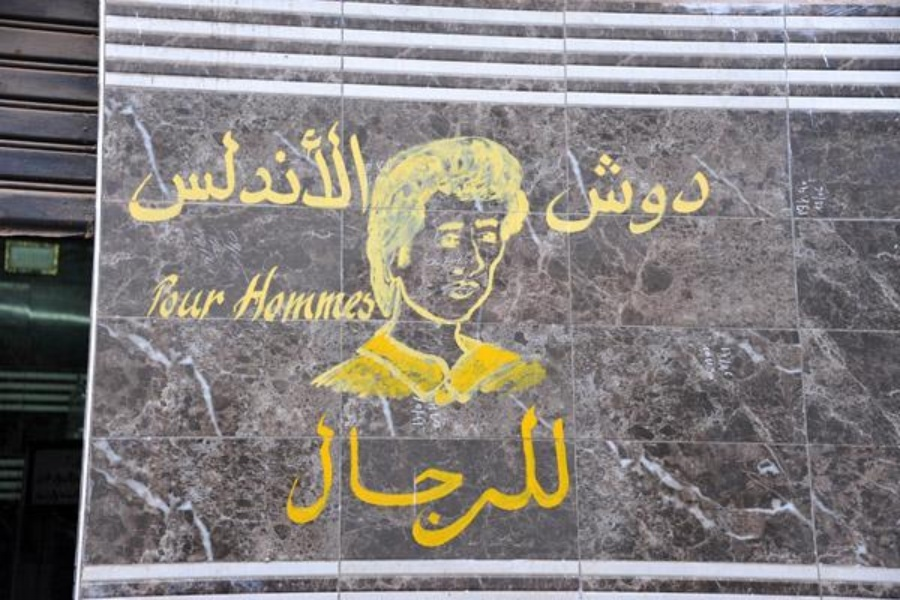text: (289, 406, 304, 562), (305, 406, 320, 562), (321, 406, 336, 562), (337, 406, 352, 562), (353, 406, 368, 562), (369, 406, 384, 562), (385, 406, 400, 562), (401, 406, 416, 562), (417, 406, 432, 562), (433, 406, 448, 562), (449, 406, 464, 562), (465, 406, 480, 562), (481, 406, 496, 562), (497, 406, 512, 562), (513, 406, 528, 562), (529, 406, 544, 562), (545, 406, 560, 562), (561, 406, 572, 562), (161, 121, 176, 227), (177, 121, 192, 227), (193, 121, 208, 227), (209, 121, 224, 227), (225, 121, 240, 227), (241, 121, 256, 227), (257, 121, 272, 227), (273, 121, 288, 227), (289, 121, 304, 227), (305, 121, 320, 227), (321, 121, 336, 227), (337, 121, 352, 227), (353, 121, 368, 227), (545, 151, 560, 235), (561, 151, 576, 235), (577, 151, 592, 235), (593, 151, 608, 235), (609, 151, 624, 235), (625, 151, 640, 235), (641, 151, 656, 235), (657, 151, 672, 235), (673, 151, 688, 235), (689, 151, 704, 235), (241, 260, 256, 325), (257, 260, 272, 325), (273, 260, 288, 325), (289, 260, 304, 325), (305, 260, 320, 325), (321, 260, 336, 325), (337, 260, 352, 325), (353, 260, 368, 325), (369, 260, 382, 325), (161, 271, 176, 323), (177, 271, 192, 323), (193, 271, 208, 323), (209, 271, 224, 323), (146, 271, 160, 323), (705, 151, 710, 235), (157, 121, 160, 227), (287, 406, 288, 562), (369, 121, 370, 227), (225, 271, 227, 323)
